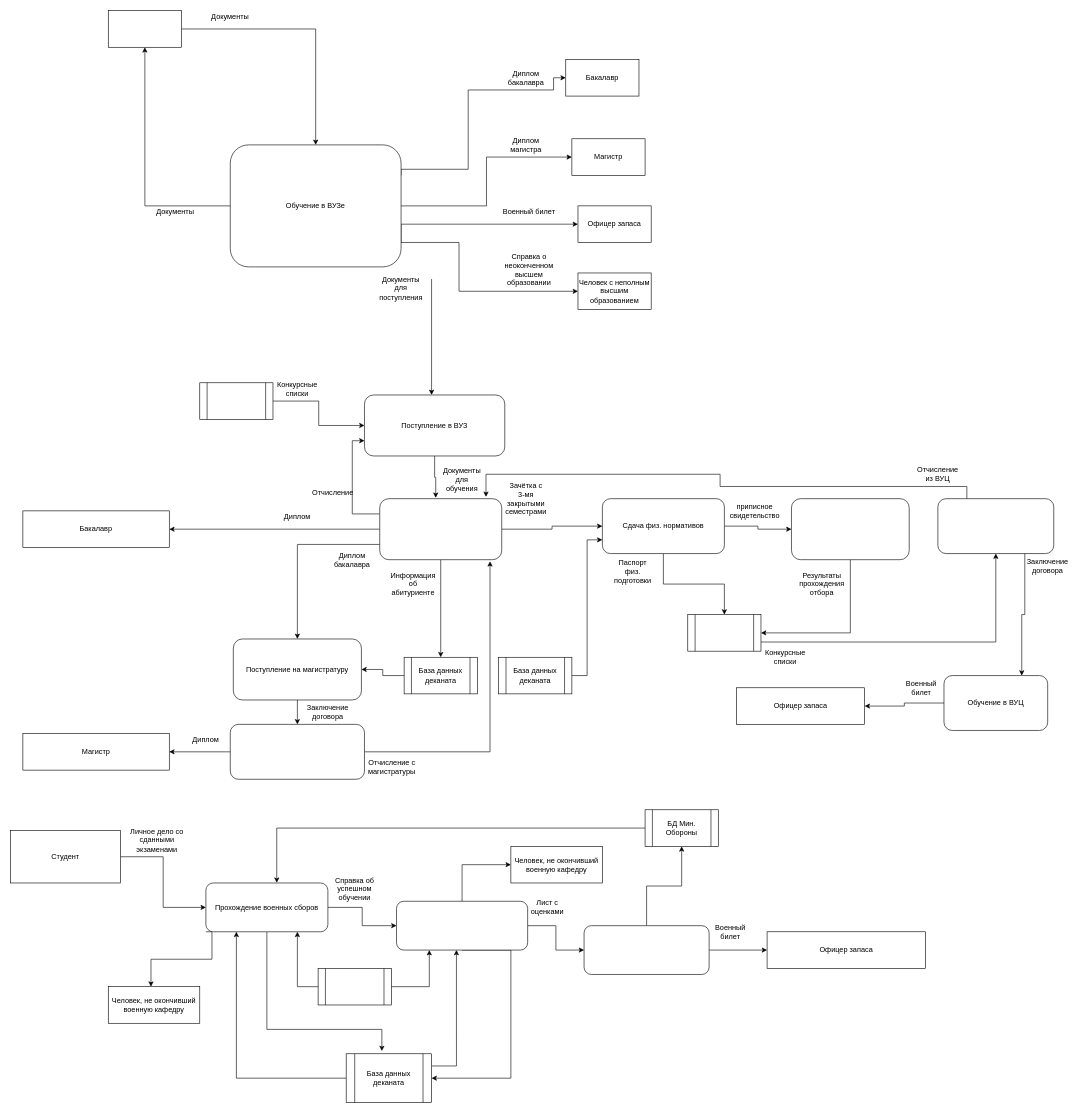
Some shapes in this 1079 by 1113 pixel diagram are drawn without their labels. Each missing label, with the centre of its shape:
"Абитуриент" belongs at (x=144, y=28).
"База данных абитуриентов" belongs at (x=236, y=400).
"База данных ВУЦ" belongs at (x=724, y=632).
"БД военной кафедры" belongs at (x=354, y=986).
"Вручение погон" belongs at (x=646, y=949).
"Обучение на магистратуре" belongs at (x=297, y=751).
"Обучение по программе бакалавриата" belongs at (x=440, y=529).
"Поступление в ВУЦ" belongs at (x=995, y=526).
"Прохождение псих.-проф. отбора" belongs at (x=850, y=529).
"Сдача итоговой аттестации" belongs at (x=462, y=925).
